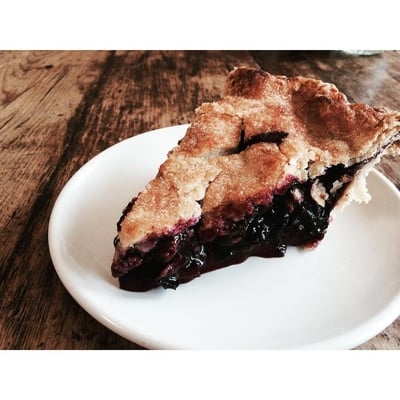soup: (111, 61, 399, 292)
